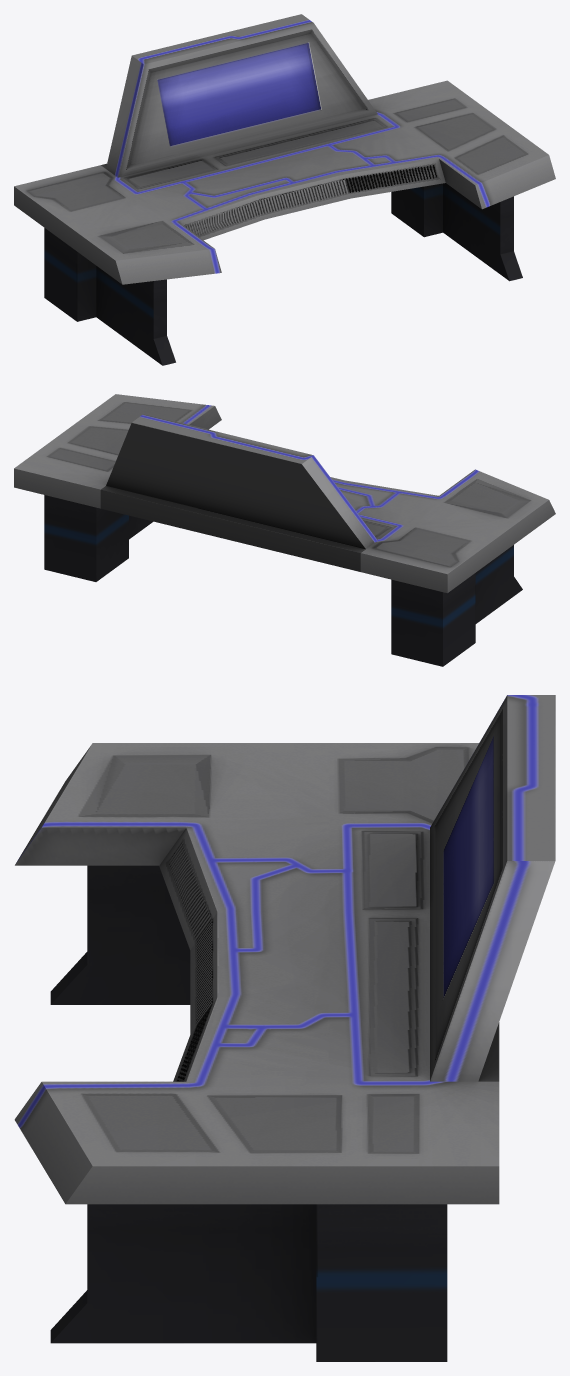
Rendered from Flightdesk_solo_Lowpoly.FBX.
The picture shows the model from 3 angles, top to bottom: view 1: azimuth 30°, elevation 25°; view 2: azimuth 150°, elevation 25°; view 3: azimuth 270°, elevation 25°; orthographic projection. The views are drawn at different scales.
Visible parts, largest first — view 1: FlightDesk Single _ Lowpoly; view 2: FlightDesk Single _ Lowpoly; view 3: FlightDesk Single _ Lowpoly.
Part boxes in pixels (left/top/right/bottom): FlightDesk Single _ Lowpoly: left=14, top=14, right=555, bottom=365; FlightDesk Single _ Lowpoly: left=14, top=394, right=555, bottom=666; FlightDesk Single _ Lowpoly: left=14, top=695, right=555, bottom=1361.
Size of the model in its own units: 118 by 50.7 by 63.83.
